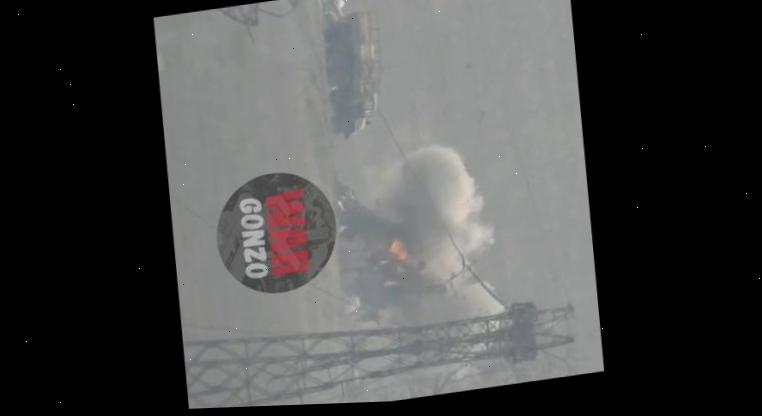truck: (317, 5, 388, 144)
